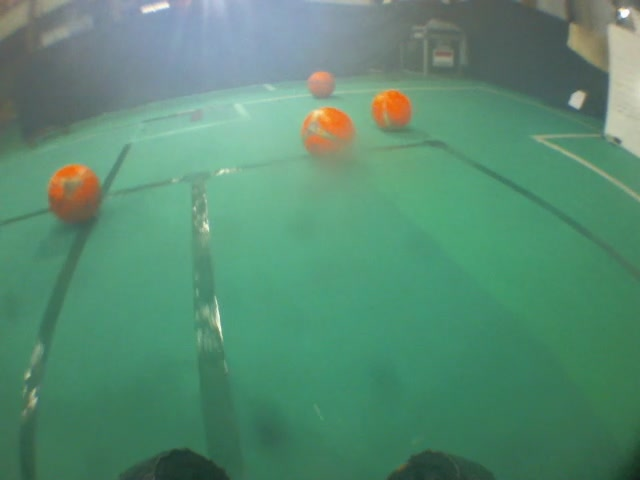ball: (43, 160, 113, 231), (297, 103, 361, 172), (368, 84, 416, 136), (301, 69, 339, 103)
